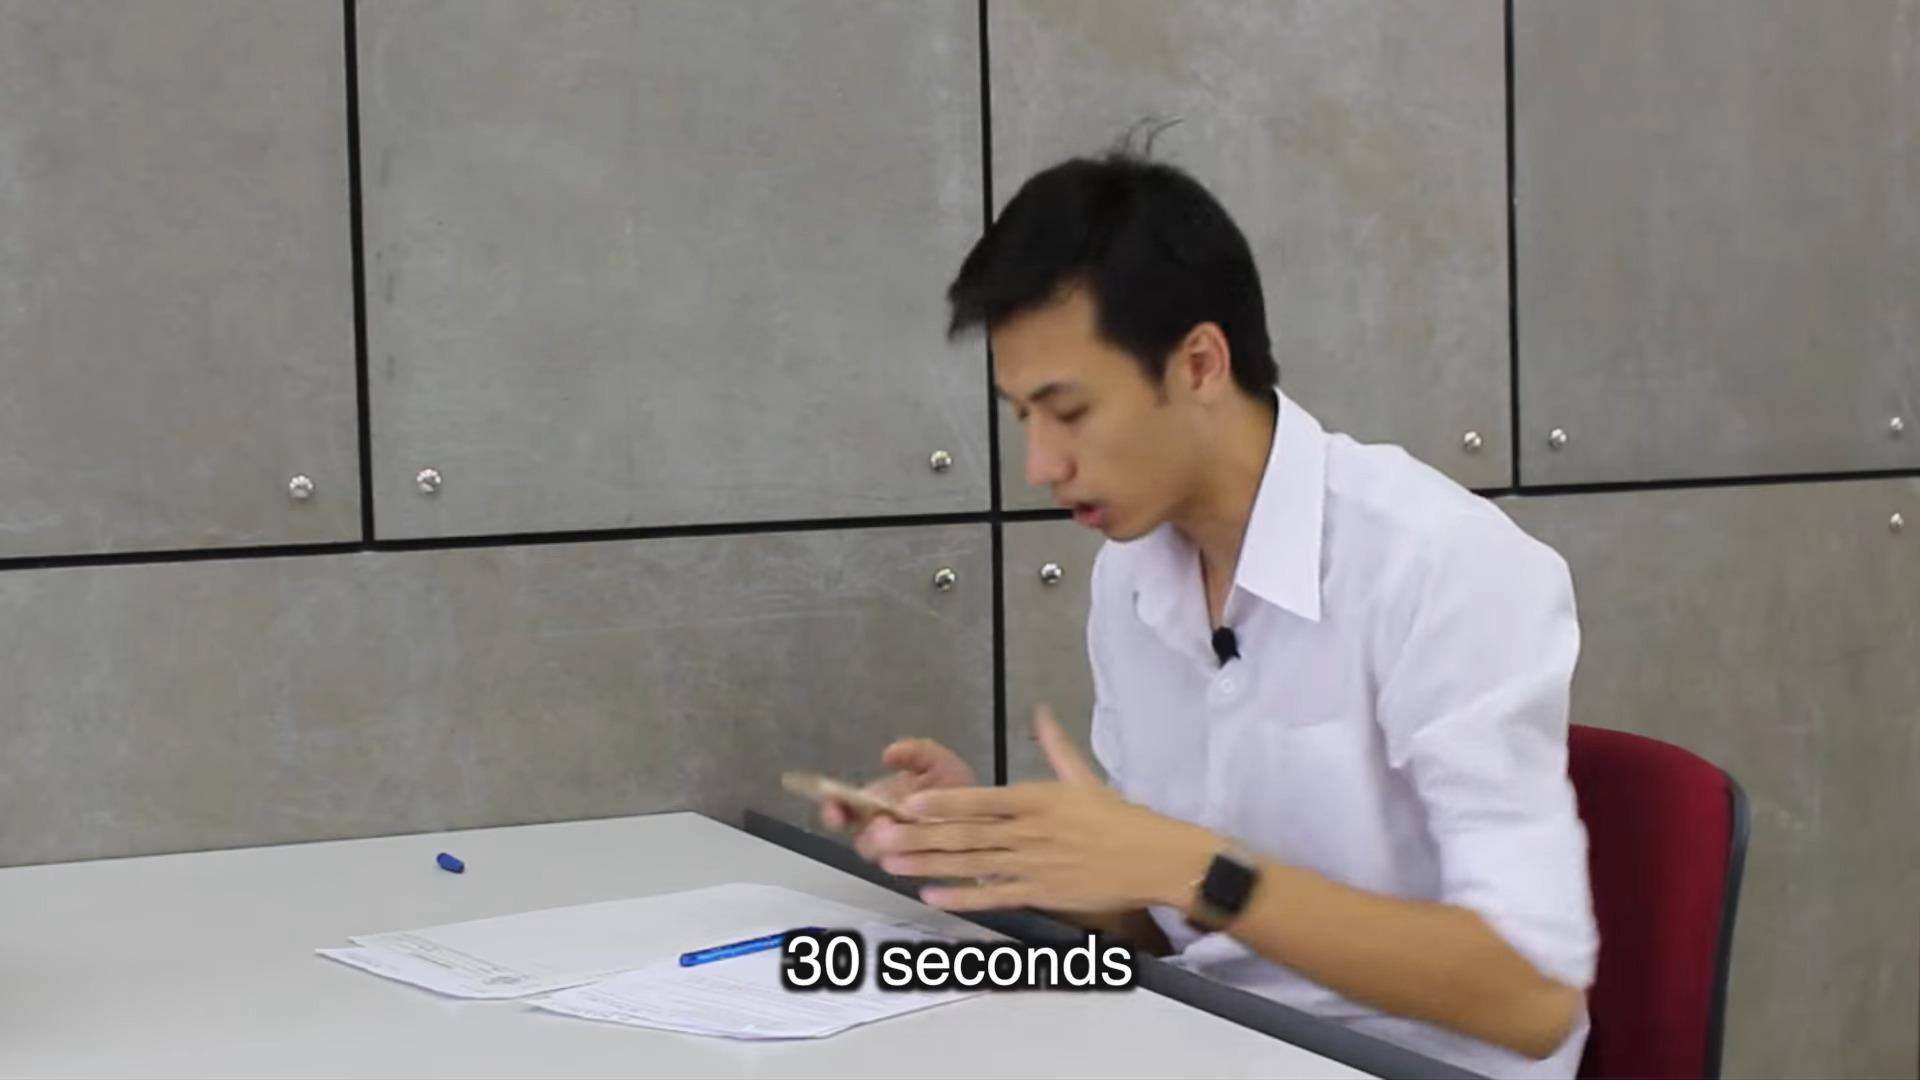cheating: (753, 80, 1626, 924)
